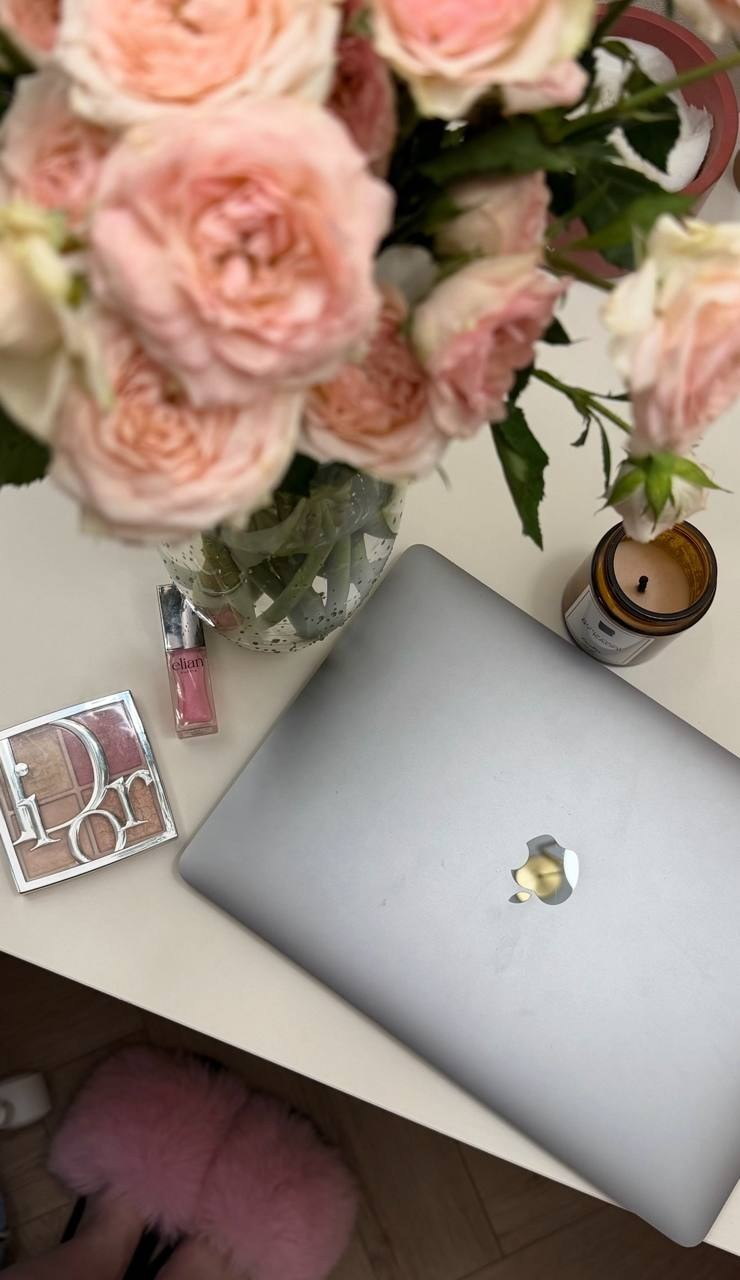laptop: (174, 542, 739, 1248)
